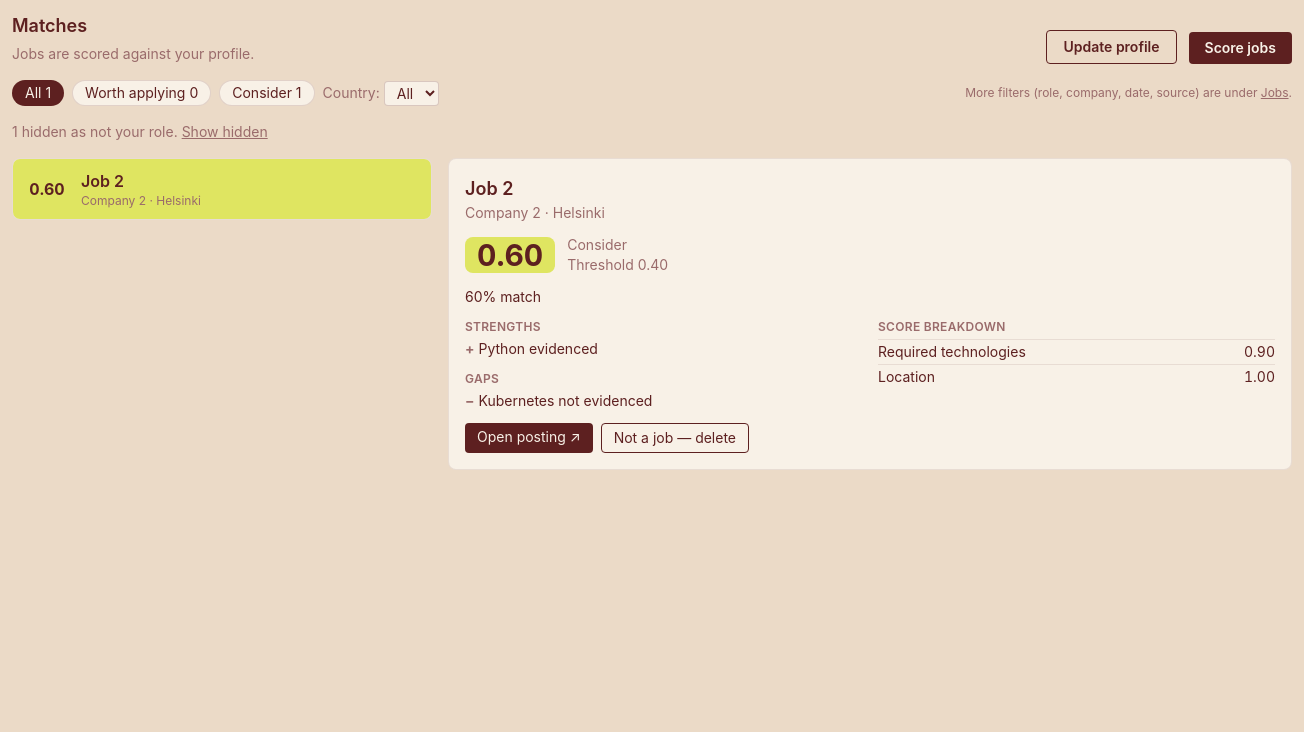
Test: matches › MF4: hides jobs outside the target roles behind a toggle that names the reason
Expected: the element named "Selected job" is shown, left=448, top=158, right=1292, bottom=470
Expected: the text "Licensing Manager" is not shown
Click the button "Show hidden" at x=225, y=132, box left=182, top=122, right=268, bottom=142
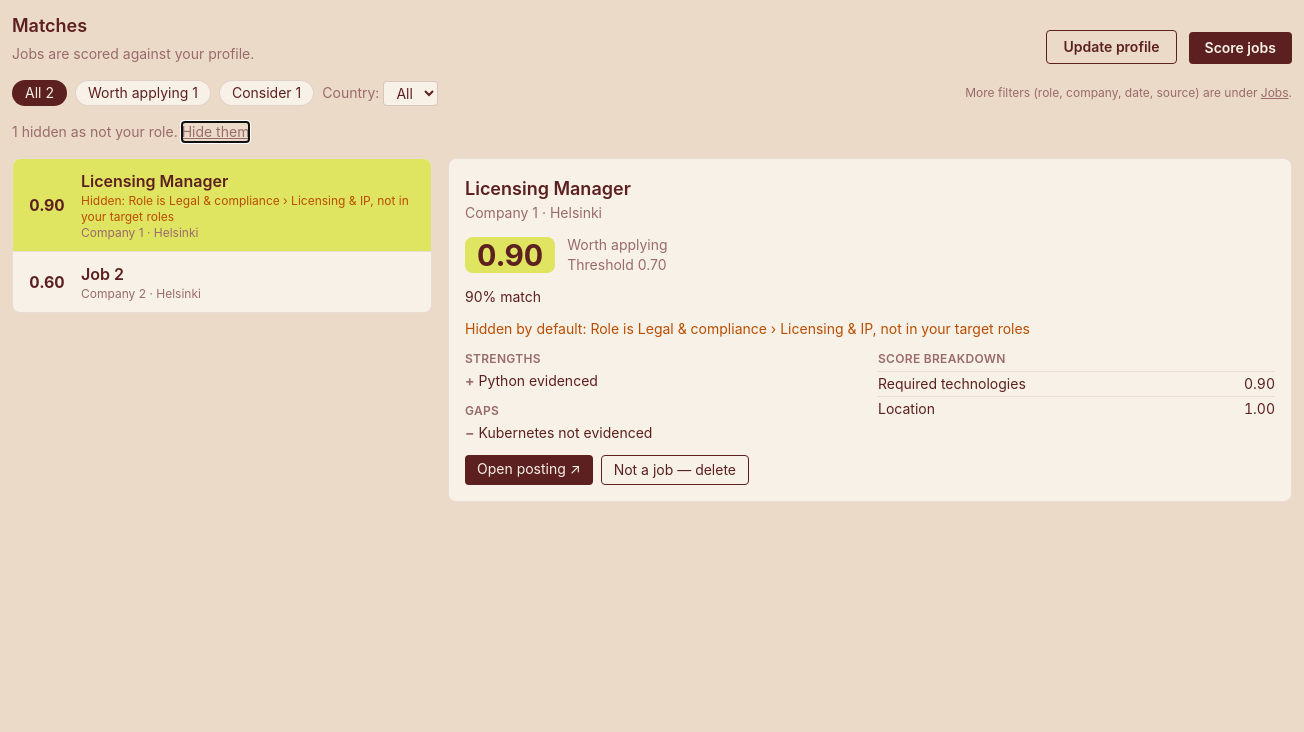
Now the text "Licensing Manager" is shown, box left=81, top=171, right=228, bottom=191
Now the text "Role is Legal & compliance › Licensing & IP, not in your target roles" is shown, box left=81, top=193, right=409, bottom=224
